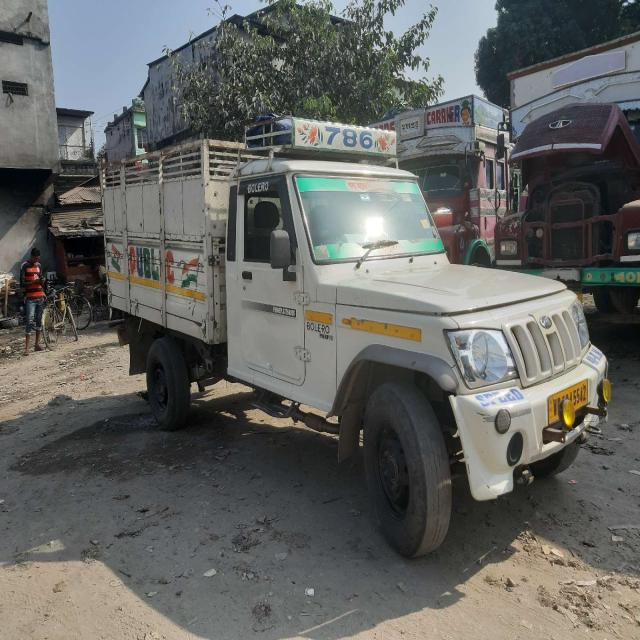light_vehicle: (102, 132, 607, 470)
